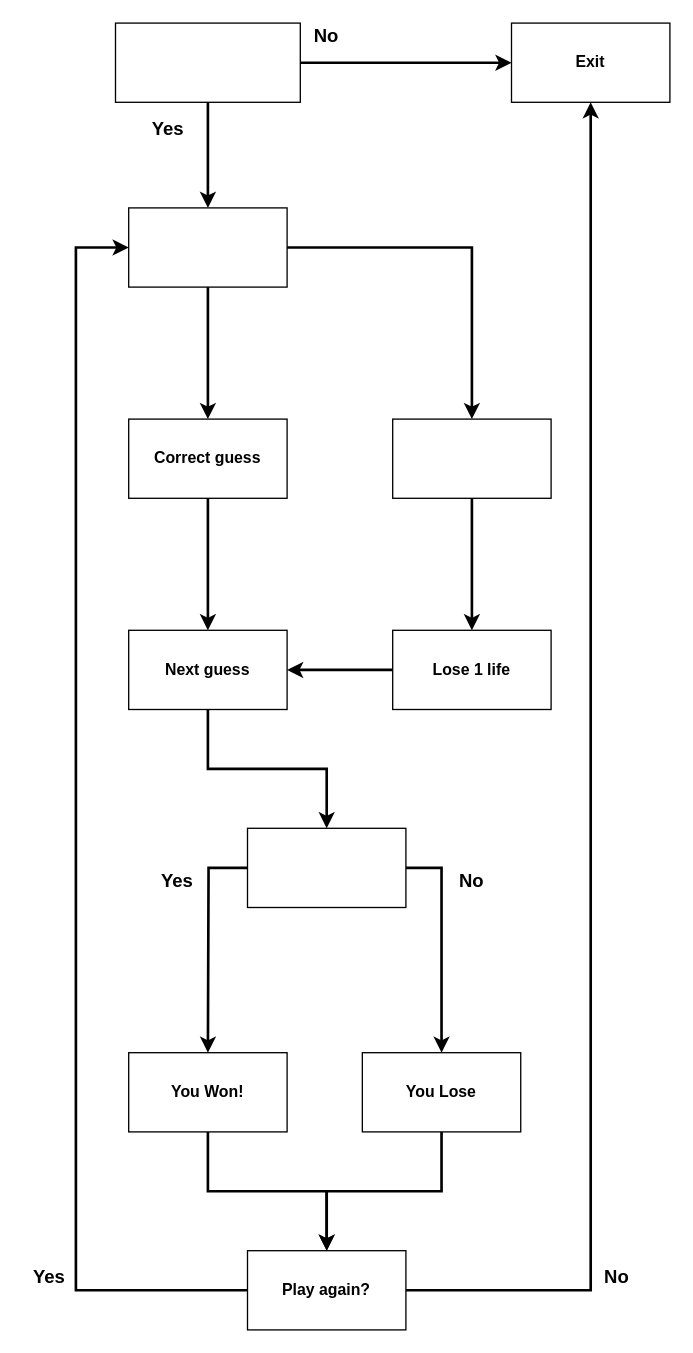
Some shapes in this 693 by 1353 pixel diagram are drawn without their labels. Here are the shapes that lost their labels. From the top down, the centre of each, then its label:
At point (207, 62): "Play Game?".
At point (207, 247): "Guess a letter".
At point (471, 458): "Incorrect guess".
At point (326, 867): "Guessed the word?".
